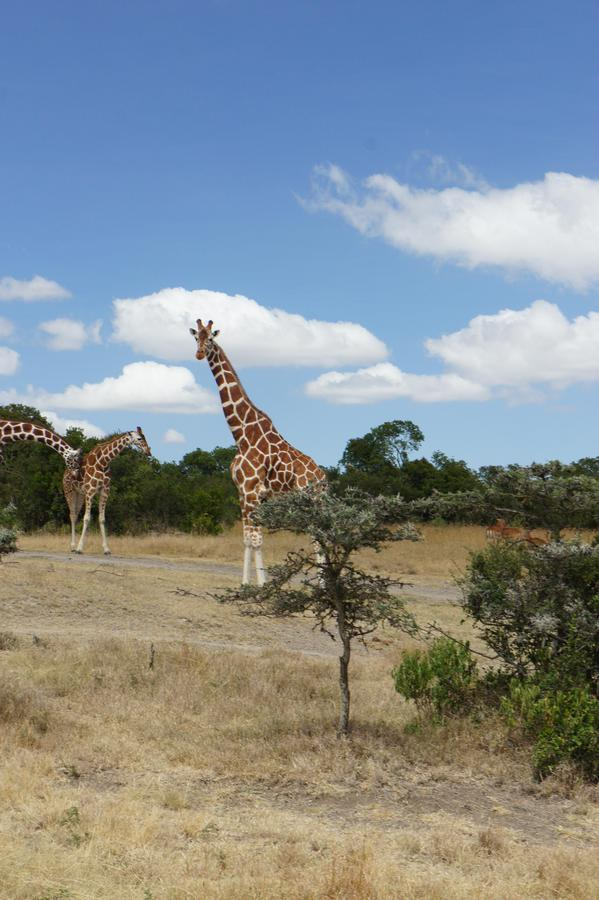giraffe: (185, 319, 334, 505), (54, 427, 153, 551)
